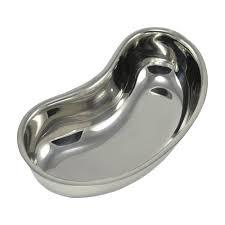Kidney Tray: (11, 25, 209, 199)
